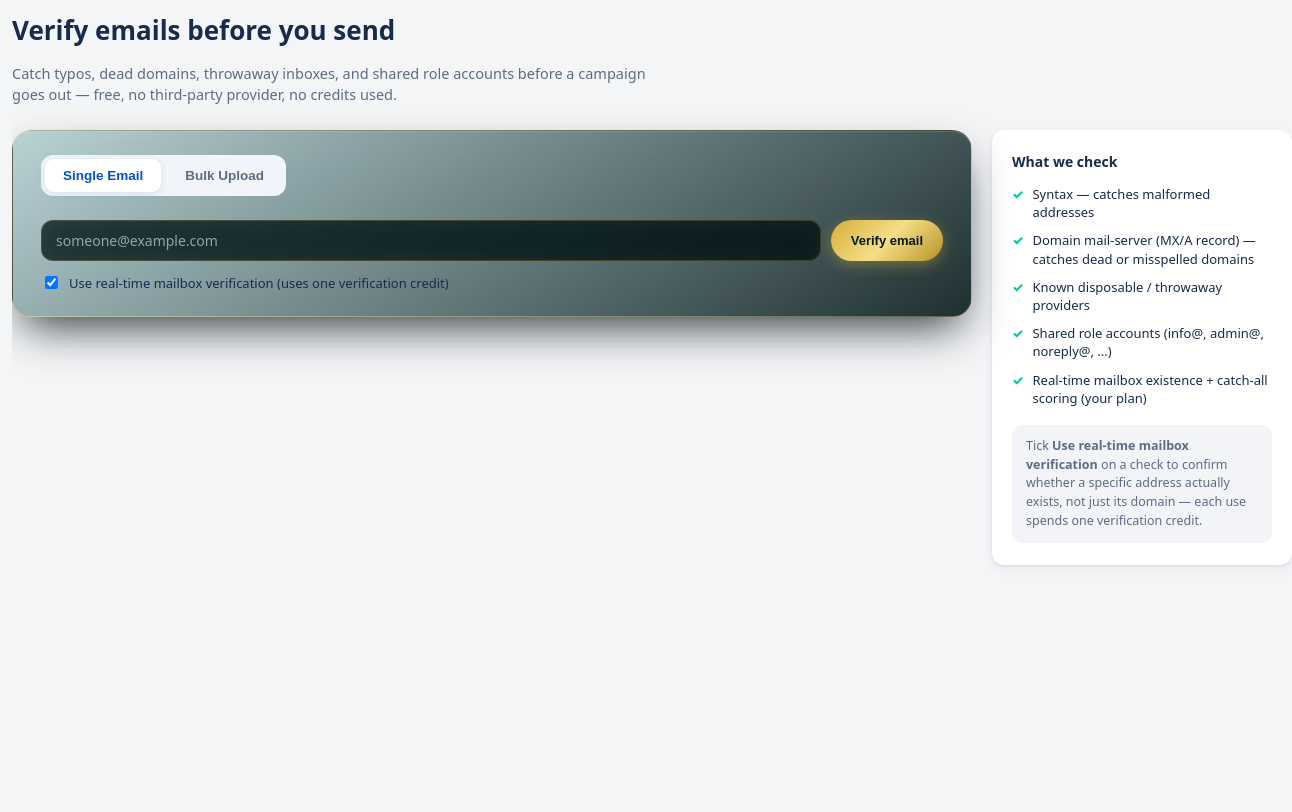
Test case: VerifyEmailPage › shows the real-time checkbox and sends use_realtime when available
Expected: the text "Use real-time mailbox verification (uses one verification credit)" is shown, [45,274,449,292]
In the field named "Email": (431, 240) [41,220,821,261], type "test@example.org"
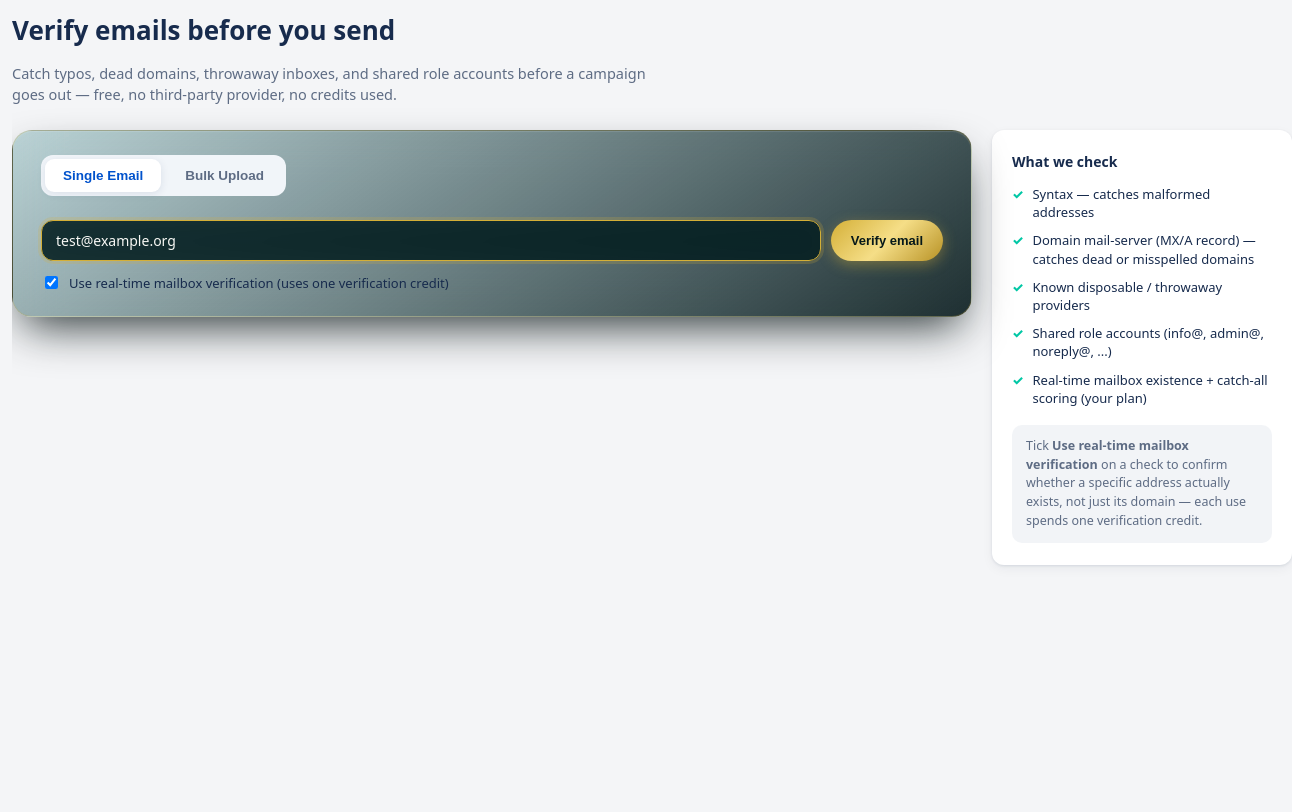
Click the button "Verify email": (887, 240) [831,220,943,261]
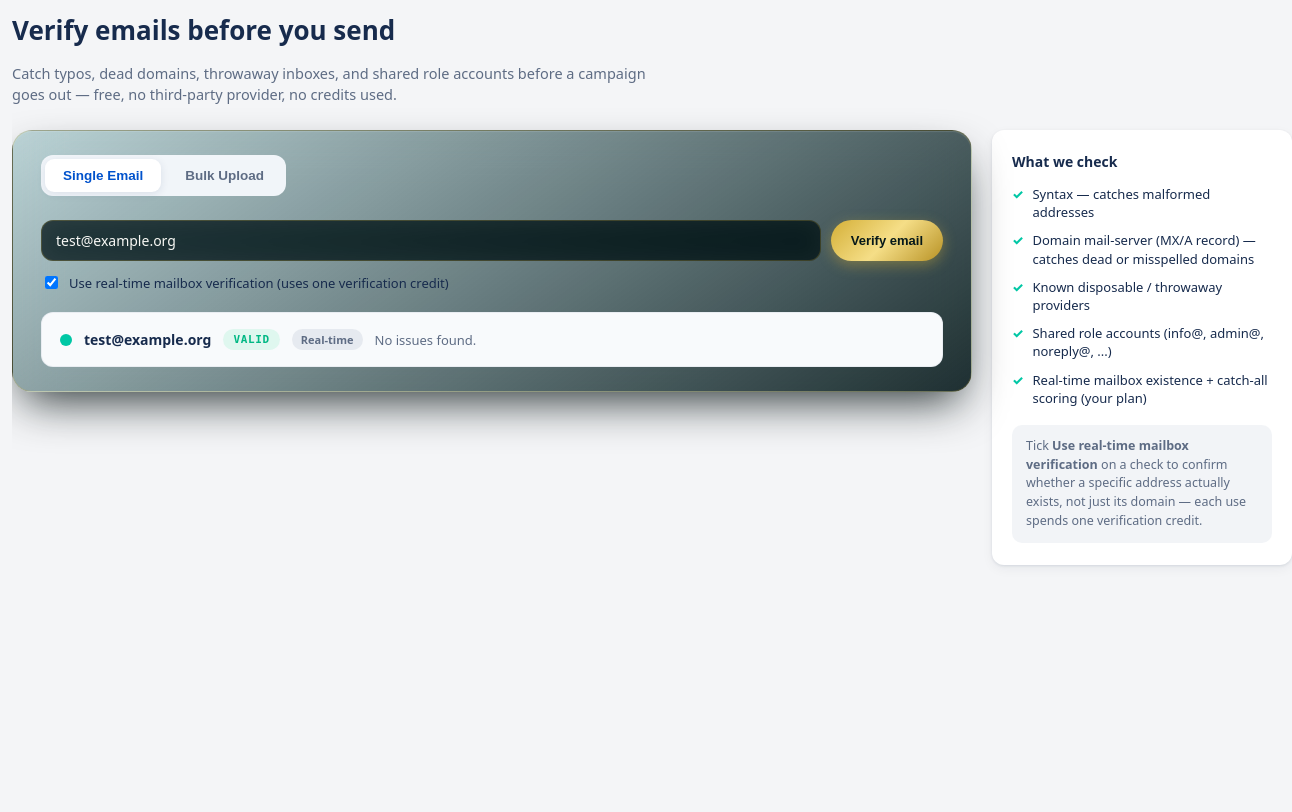
Expected: the text "Real-time" is shown, [292,329,362,350]
